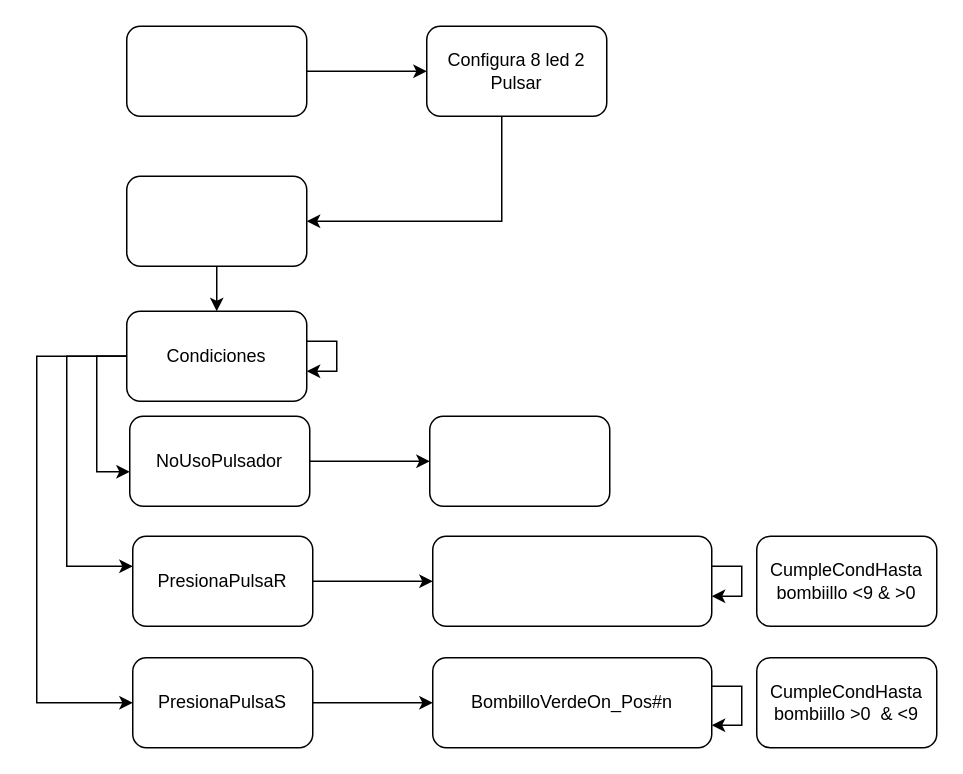
Some shapes in this 963 by 774 pixel diagram are drawn without their labels. The centre of each missing label's shape, as x and y in pixels:
"BombilloVerdeOff" belongs at point (519, 460).
"BombilloVerdeOff_Pos# -n" belongs at point (571, 580).
"Loop" belongs at point (216, 220).
"Setup" belongs at point (216, 70).
